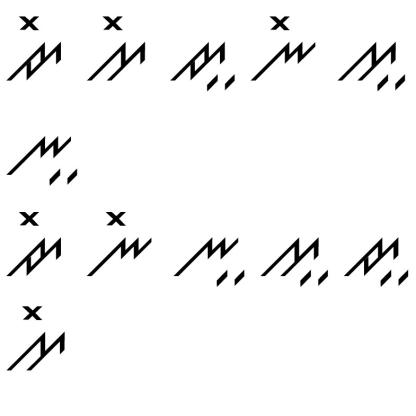jah: (342, 229, 411, 292), (169, 32, 239, 93)
jo: (7, 207, 69, 280), (4, 13, 65, 84)
nyah: (166, 229, 247, 291), (5, 127, 83, 189)
nyo: (83, 205, 153, 278), (249, 13, 318, 84)
sah: (335, 32, 410, 96), (261, 235, 330, 289)
so: (6, 302, 69, 376), (88, 13, 148, 84)
